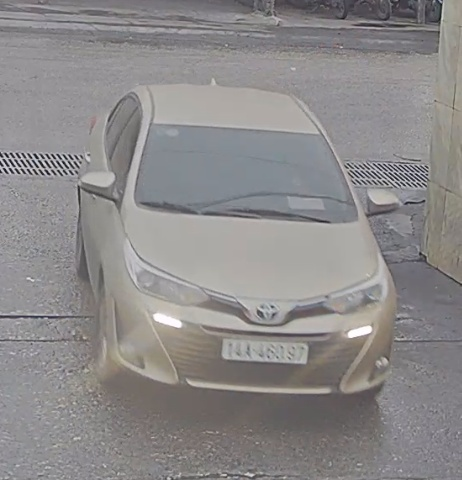vehicle plate: (218, 331, 318, 372)
